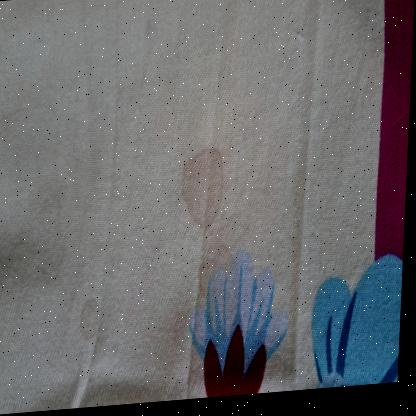spot: (174, 145, 230, 253), (195, 229, 246, 304), (81, 290, 103, 345)
